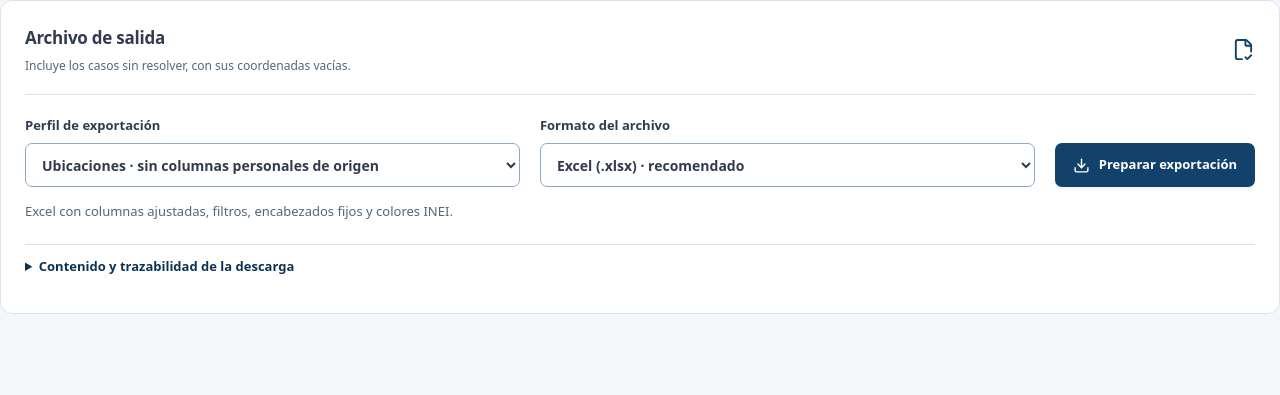
Test: spreadsheet export formats › defaults to Excel and requests a protected XLSX for the selected profile
The image size is (1280, 395).
Expected: the dropdown labelled "Formato del archivo" shows "Excel (.xlsx) · recomendado", [540,143,1035,187]
Click the button "Preparar exportación".
click(1155, 165)  # box [1055,143,1255,187]
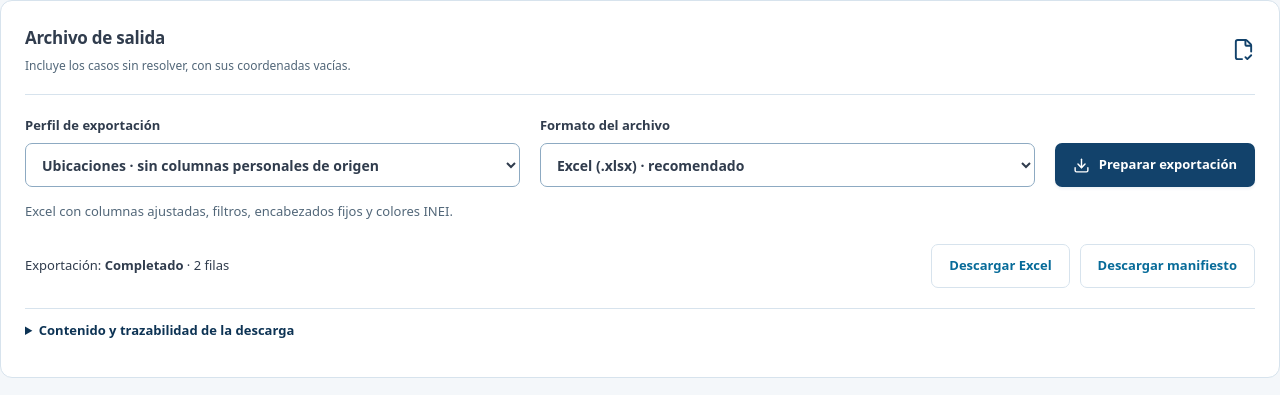
Now the button "Descargar Excel" is shown, box [931,244,1070,288]
